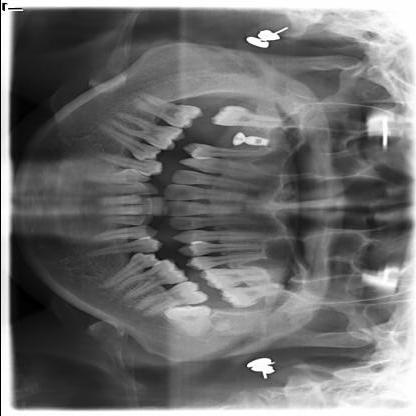Bicon: (249, 133, 272, 146)
